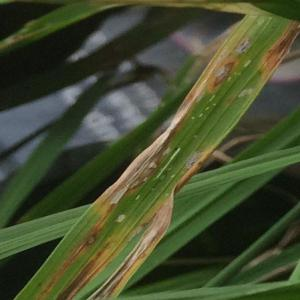Rice_Blast: (234, 32, 263, 59), (210, 60, 234, 92)
